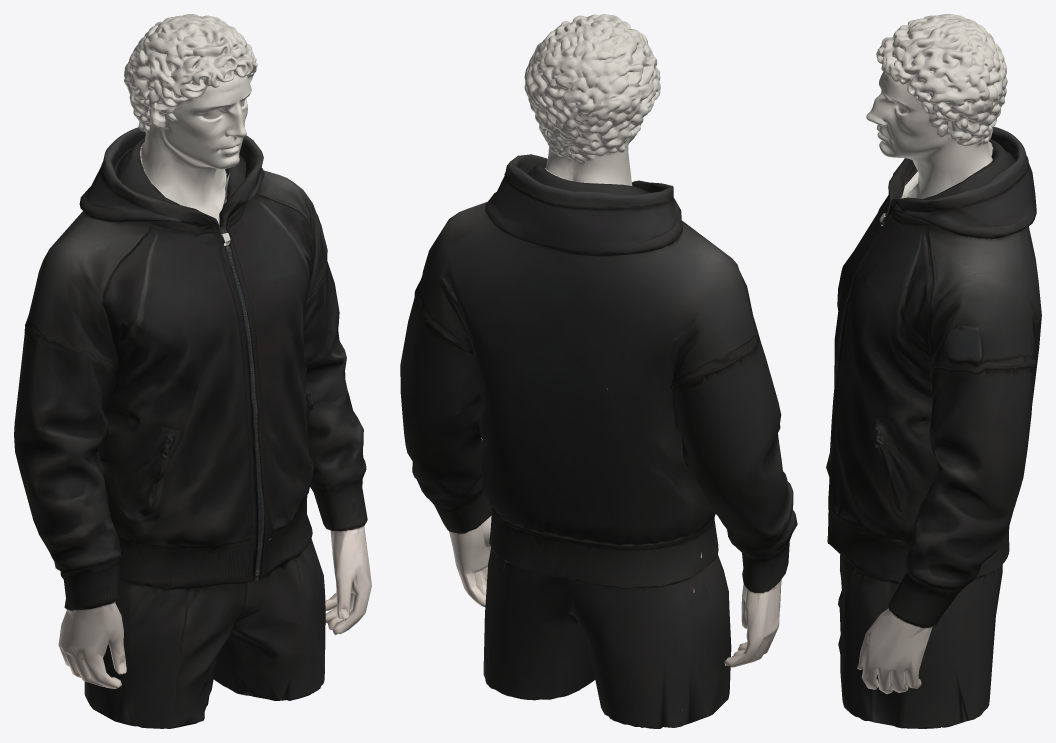
File: hoodie-sculpture-finished.glb
3 views of the same model, side by side, from view 1: azimuth 30°, elevation 25°; view 2: azimuth 150°, elevation 25°; view 3: azimuth 270°, elevation 25° (orthographic). The views are drawn at different scales.
Parts seen in each view (by area): view 1: model; view 2: model; view 3: model.
Boxes of the visible parts, x1,y1,x2,y2 form: model: (14, 14, 371, 728); model: (400, 14, 797, 728); model: (826, 14, 1041, 728).
Bounding box in the file's own units: 1.03 × 1.9 × 0.5662.
2 materials, 1 textured.
